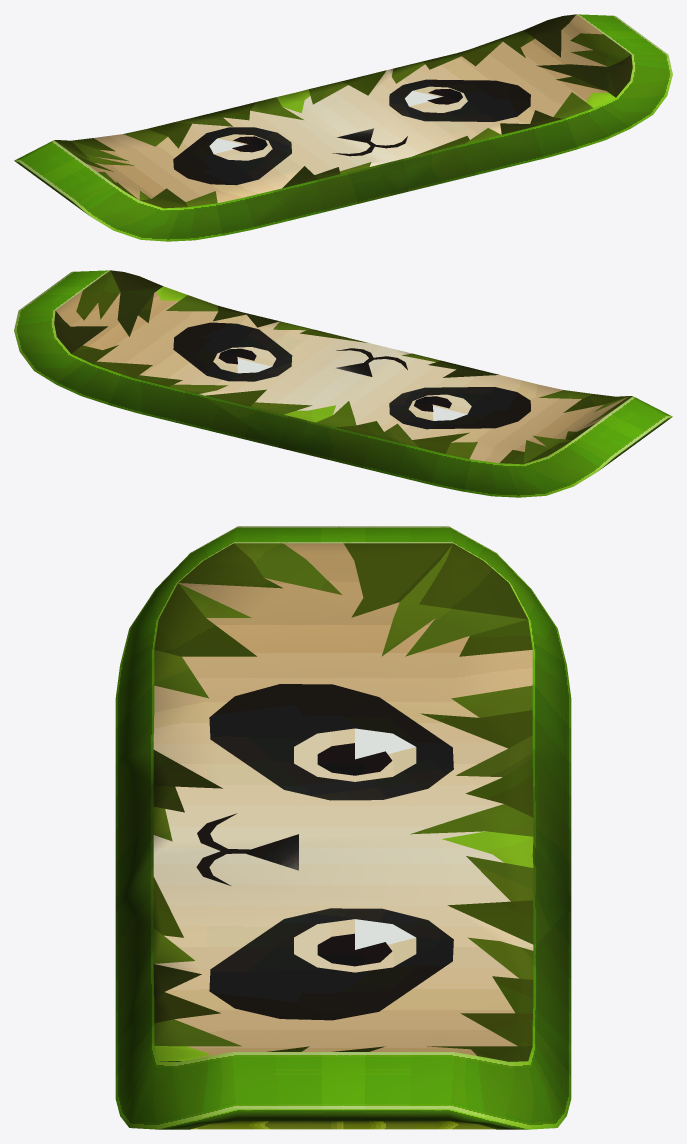
Rendered from Panda.glb.
3 renders of one model, top to bottom at view 1: azimuth 30°, elevation 25°; view 2: azimuth 150°, elevation 25°; view 3: azimuth 270°, elevation 25°, orthographic. The views are drawn at different scales.
Parts seen in each view (by area): view 1: Panda; view 2: Panda; view 3: Panda.
Part boxes in pixels (box(x1,y1,x2,y2)): Panda: box(14, 14, 672, 241); Panda: box(14, 270, 672, 497); Panda: box(115, 526, 571, 1129).
Size of the model in its own units: 8.35 by 0.7226 by 2.76.
Materials: 1 (1 with a texture image).
